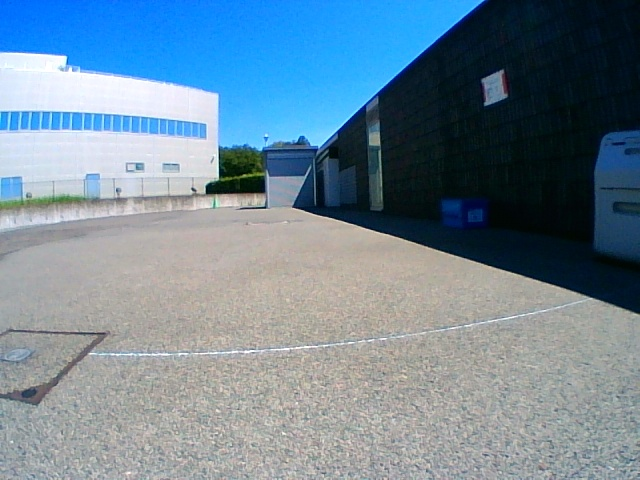blue_box: (442, 199, 488, 229)
tag: (469, 210, 481, 221)
